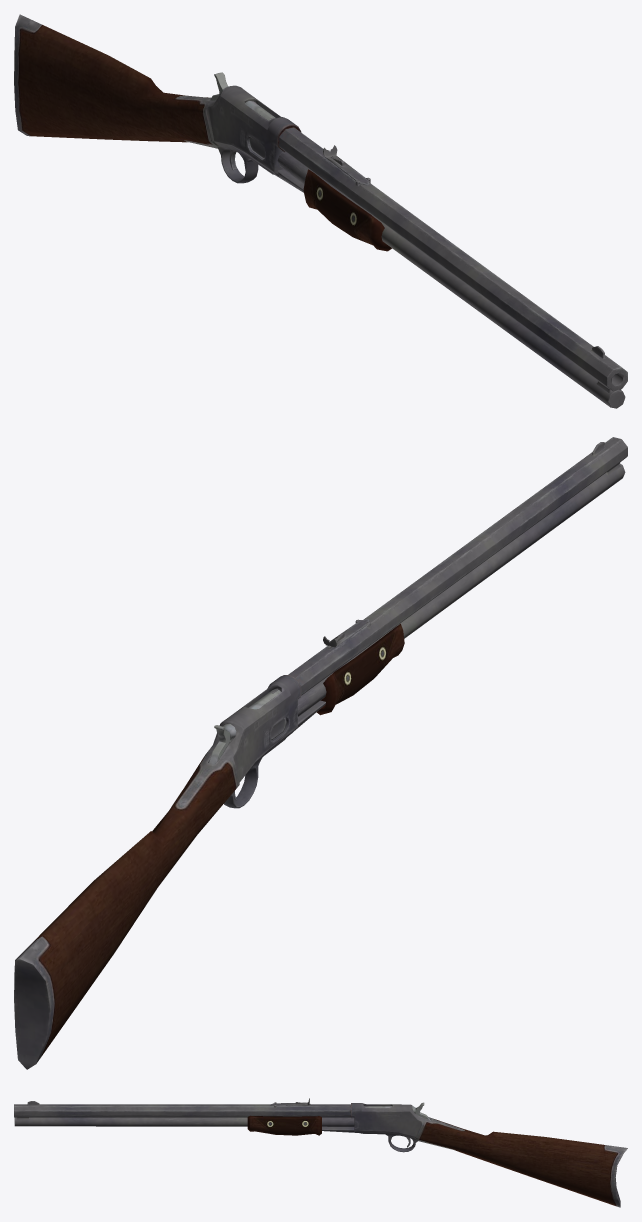
Rendered from pompe.glb.
3 renders of one model, top to bottom at view 1: azimuth 30°, elevation 25°; view 2: azimuth 150°, elevation 25°; view 3: azimuth 270°, elevation 25°, orthographic. The views are drawn at different scales.
Visible parts, largest first — view 1: LightningRifle_baked; view 2: LightningRifle_baked; view 3: LightningRifle_baked.
Boxes of the visible parts, box(x1,y1,x2,y2) form: LightningRifle_baked: box(14, 14, 627, 408); LightningRifle_baked: box(14, 437, 627, 1069); LightningRifle_baked: box(14, 1098, 627, 1207).
Bounding box in the file's own units: 0.0344 × 0.1885 × 0.968.
Materials: 1 (1 with a texture image).
